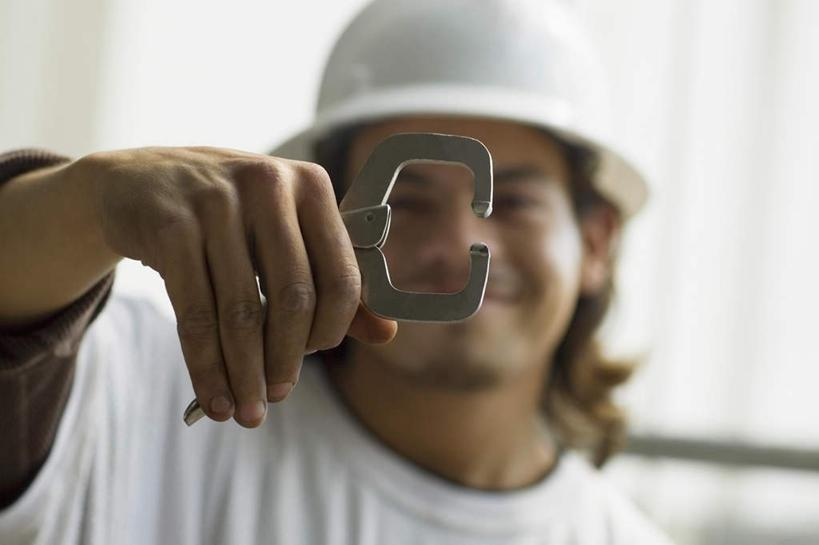helmet: (268, 0, 657, 228)
